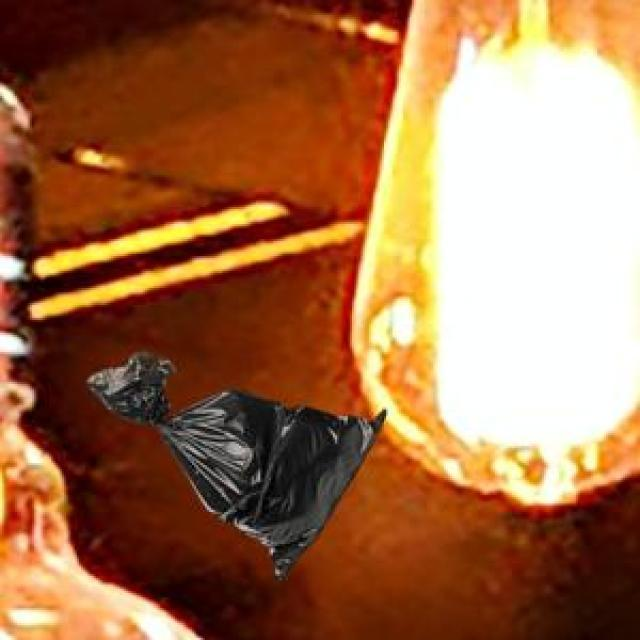Vinyl: (88, 352, 385, 579)
